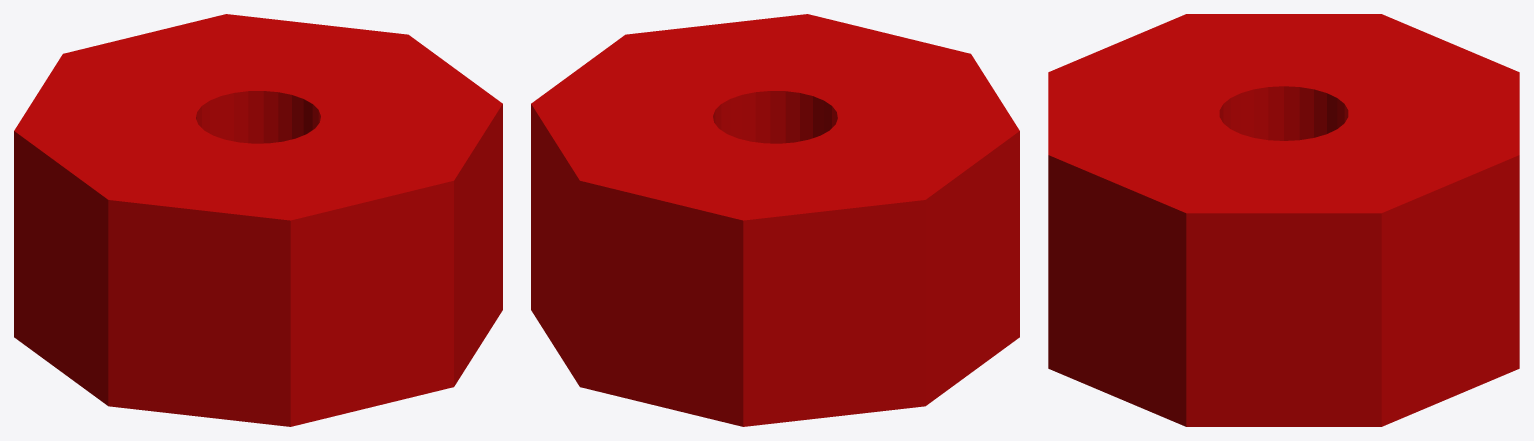
Rendered from red_octagonal_prism.dae.
3 renders of one model, left to right at view 1: azimuth 30°, elevation 25°; view 2: azimuth 150°, elevation 25°; view 3: azimuth 270°, elevation 25°, orthographic. The views are drawn at different scales.
Visible parts, largest first — view 1: node0; view 2: node0; view 3: node0.
Part boxes in pixels (left/top/right/bottom): node0: left=14, top=14, right=502, bottom=426; node0: left=531, top=14, right=1019, bottom=426; node0: left=1048, top=14, right=1519, bottom=426.
Bounding box in the file's own units: 0.02 × 0.02 × 0.01.
